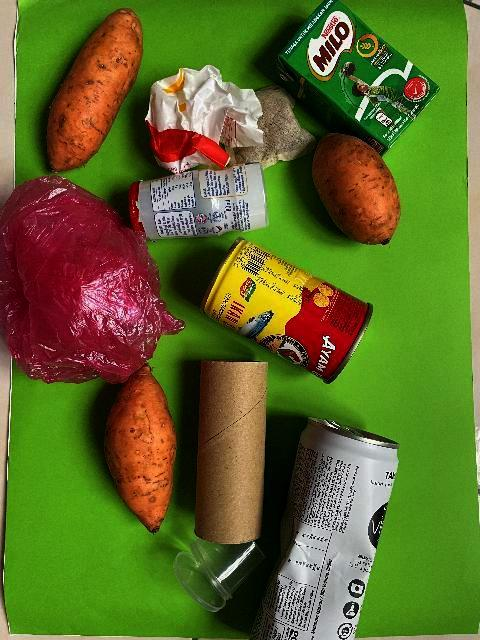drinkcan: (248, 414, 400, 640)
drinkpack: (273, 0, 441, 158)
foodcan: (200, 236, 374, 384)
paperbag: (144, 62, 264, 176)
plasticbag: (0, 174, 186, 386)
plasticbottle: (128, 161, 270, 243)
plasticcontainer: (172, 531, 266, 613)
sweetpotato: (44, 7, 144, 174), (103, 362, 178, 534), (311, 132, 402, 246)
teabag: (222, 81, 318, 171)
tissueroll: (194, 358, 270, 546)
